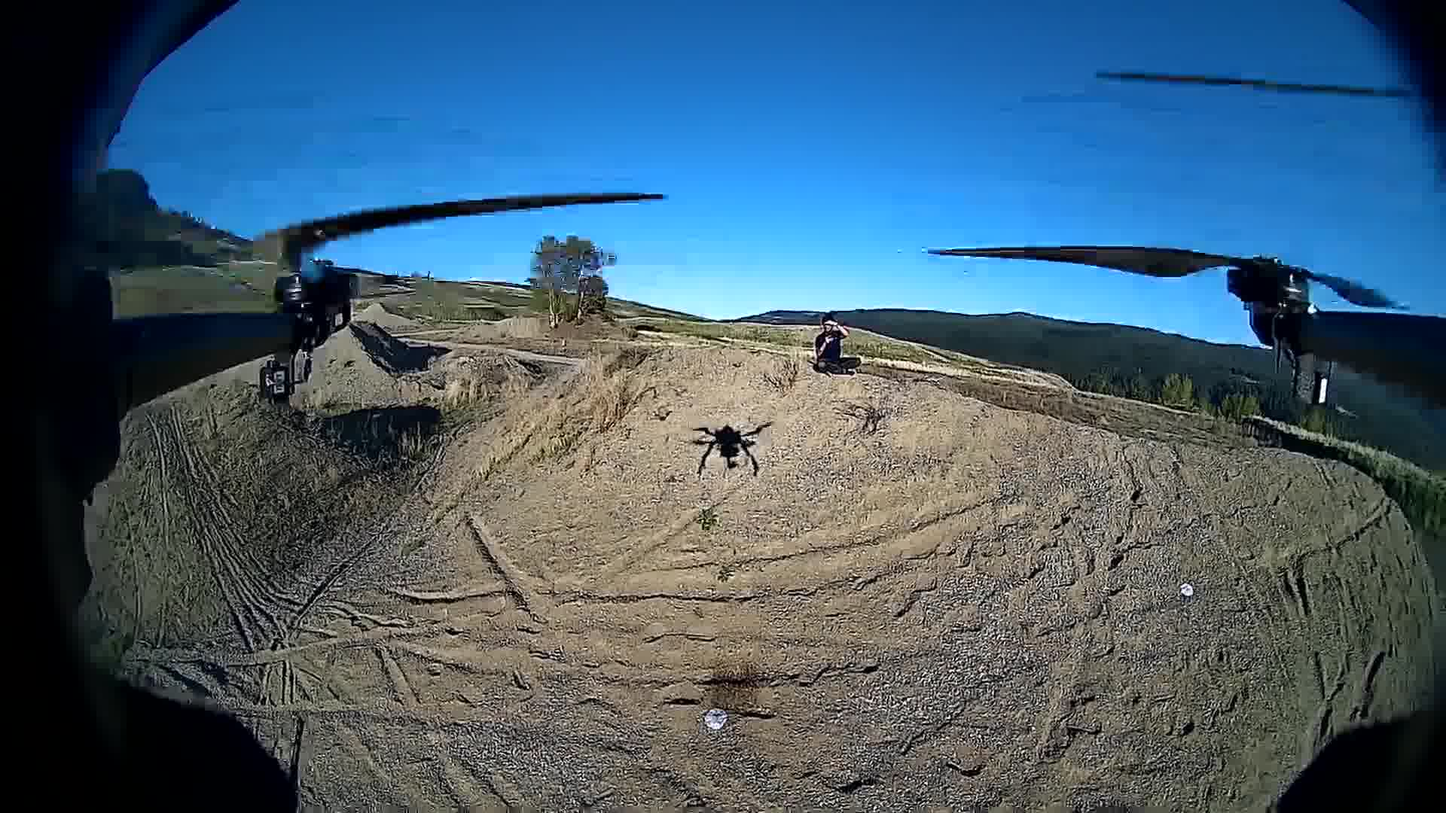Target: (704, 711, 729, 730), (1180, 583, 1192, 596)
